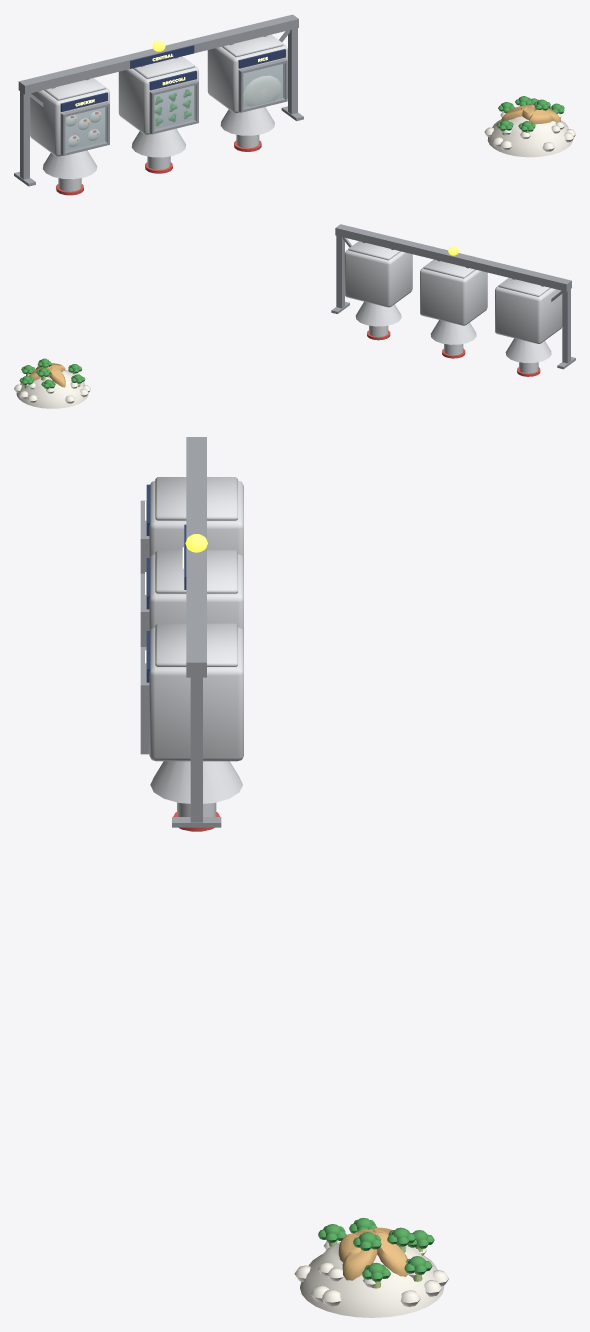
The model's file is WChewsDispenser_01.glb.
3 renders of one model, top to bottom at view 1: azimuth 30°, elevation 25°; view 2: azimuth 150°, elevation 25°; view 3: azimuth 270°, elevation 25°, orthographic. The views are drawn at different scales.
Parts seen in each view (by area): view 1: WcMealDispenser_Body, WcMealDispenser_Frame, WcMealDispenser_Glass, WcMealDispenser_Trim, MealPile_Rice, WcMealDispenser_Plates, WcMealDispenser_Rice, MealPile_Broccoli, MealPile_Chicken, WcMealDispenser_Hens, WcMealDispenser_Greens, WcMealDispenser_Gates (+1 smaller); view 2: WcMealDispenser_Body, WcMealDispenser_Frame, MealPile_Rice, MealPile_Broccoli, MealPile_Chicken, WcMealDispenser_Gates; view 3: WcMealDispenser_Body, WcMealDispenser_Frame, MealPile_Rice, MealPile_Broccoli, WcMealDispenser_Trim, MealPile_Chicken.
Part boxes in pixels (bbox=[...]): WcMealDispenser_Body: bbox=[30, 34, 287, 191]; WcMealDispenser_Frame: bbox=[14, 14, 303, 186]; WcMealDispenser_Glass: bbox=[65, 63, 285, 152]; WcMealDispenser_Trim: bbox=[60, 58, 287, 155]; MealPile_Rice: bbox=[484, 112, 575, 157]; WcMealDispenser_Plates: bbox=[60, 45, 285, 111]; WcMealDispenser_Rice: bbox=[243, 75, 281, 106]; MealPile_Broccoli: bbox=[496, 96, 564, 131]; MealPile_Chicken: bbox=[501, 103, 560, 124]; WcMealDispenser_Hens: bbox=[65, 111, 101, 146]; WcMealDispenser_Greens: bbox=[154, 89, 191, 126]; WcMealDispenser_Gates: bbox=[56, 140, 261, 195]; WcMealDispenser_Body: bbox=[344, 241, 562, 373]; WcMealDispenser_Frame: bbox=[331, 224, 575, 369]; MealPile_Rice: bbox=[14, 370, 90, 408]; MealPile_Broccoli: bbox=[19, 358, 85, 388]; MealPile_Chicken: bbox=[29, 363, 65, 387]; WcMealDispenser_Gates: bbox=[367, 330, 540, 376]; WcMealDispenser_Body: bbox=[149, 477, 243, 816]; WcMealDispenser_Frame: bbox=[172, 437, 221, 827]; MealPile_Rice: bbox=[294, 1240, 449, 1317]; MealPile_Broccoli: bbox=[318, 1218, 434, 1281]; WcMealDispenser_Trim: bbox=[140, 500, 149, 754]; MealPile_Chicken: bbox=[338, 1227, 408, 1280].
Size of the model in its own units: 56.5 by 21.59 by 14.97.
